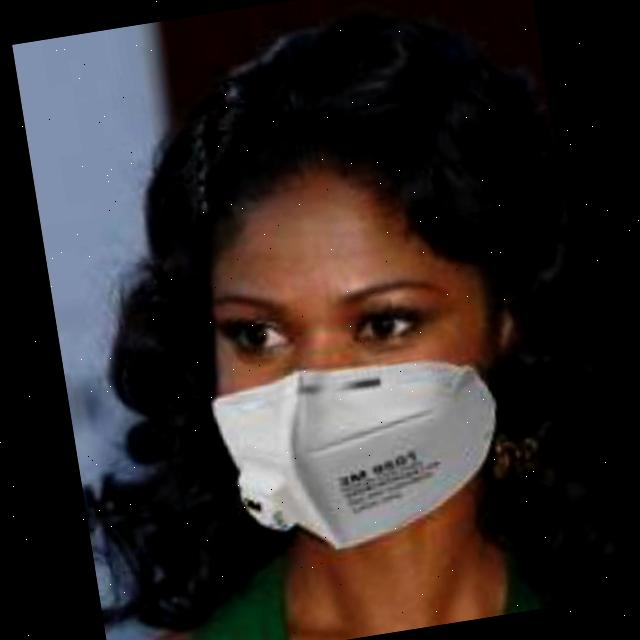suspicion: (143, 57, 564, 556)
